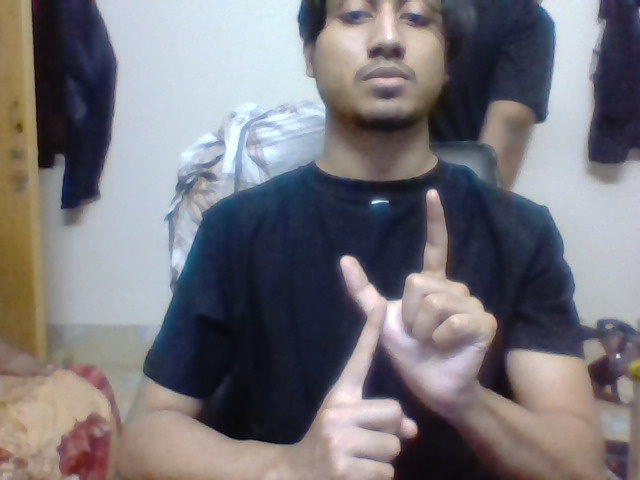Y: (332, 187, 454, 383)
